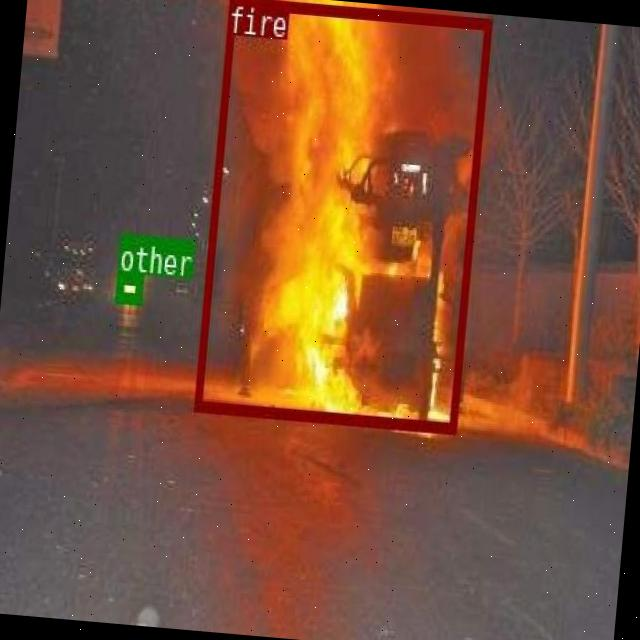fire: (194, 0, 491, 431)
